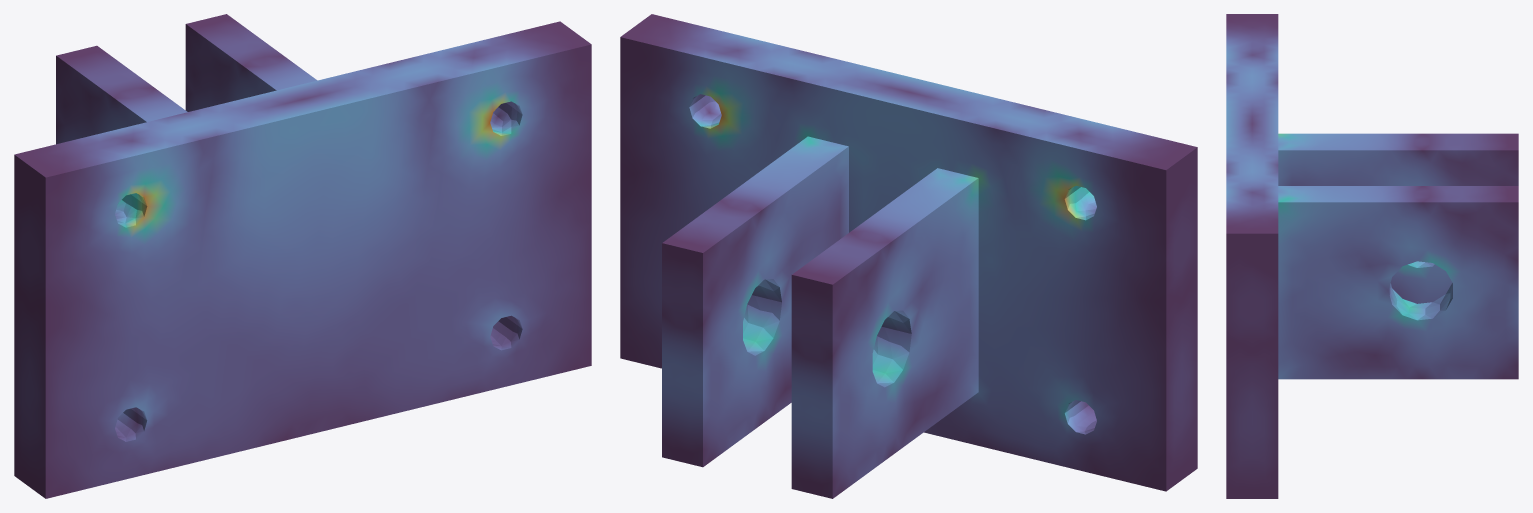
Rendered from CAD_LG-SADDLE.glb.
3 renders of one model, left to right at view 1: azimuth 30°, elevation 25°; view 2: azimuth 150°, elevation 25°; view 3: azimuth 270°, elevation 25°, orthographic. The views are drawn at different scales.
Visible parts, largest first — view 1: geometry_0; view 2: geometry_0; view 3: geometry_0.
Part boxes in pixels (x1,y1,x2,y2): geometry_0: [14, 14, 591, 498]; geometry_0: [620, 14, 1197, 498]; geometry_0: [1226, 14, 1518, 498].
Bounding box in the file's own units: 0.16 × 0.09 × 0.09.
